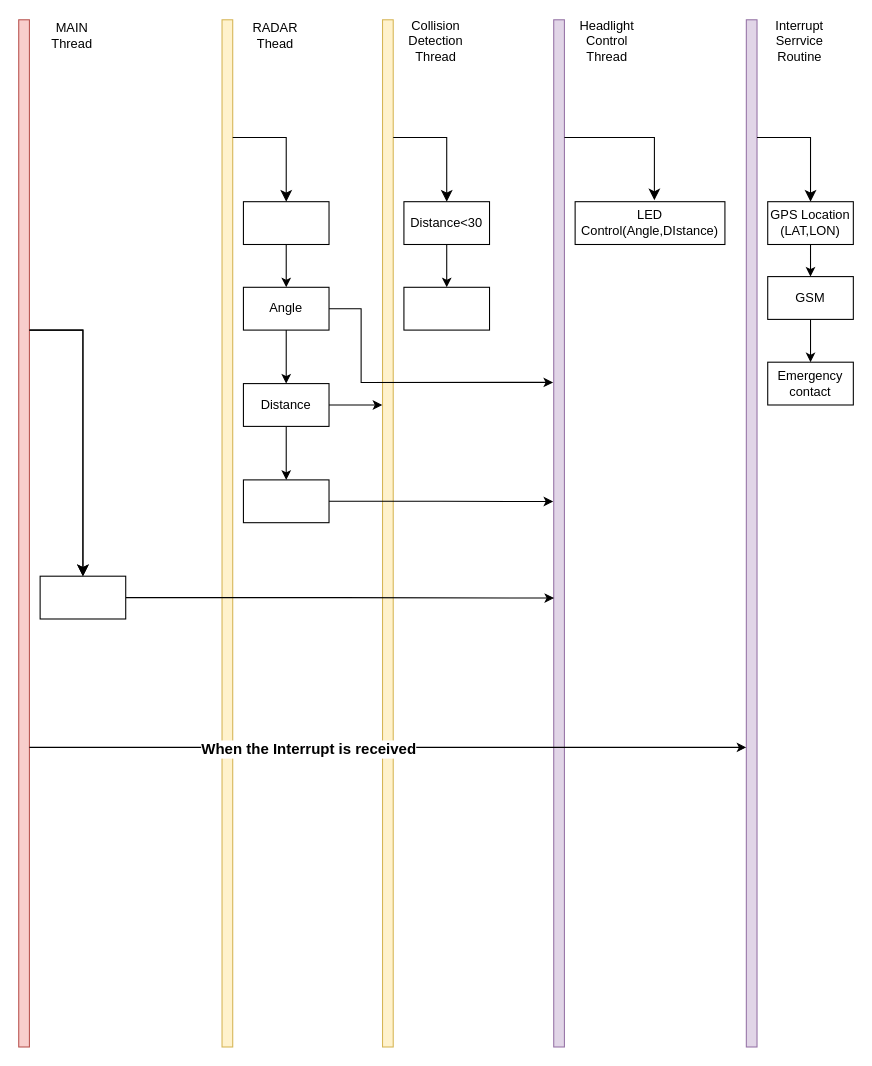
Image size: 872x1066. Some labels were removed from this diagram. Here are the shapes that lost their labels. From the top down, the box of each, then its label:
(242, 201, 329, 244): Servo and Ultrasonic
(403, 286, 490, 330): LED Blink
(242, 479, 329, 523): Object Detected?
(39, 575, 126, 619): LDR Voltage > 200
